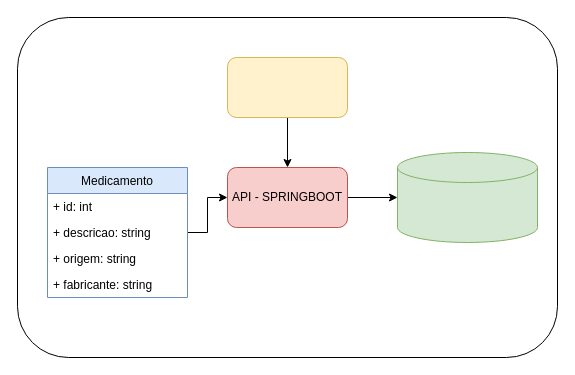
Image size: 575x375. Some labels were removed from this diagram. The shapes that lost their labels are listed below. From the top down, each one's box as (x1, y1, x2, y2) in pixels, then its label:
(226, 56, 348, 118): SWAGGER
(396, 152, 538, 242): MONGODB
